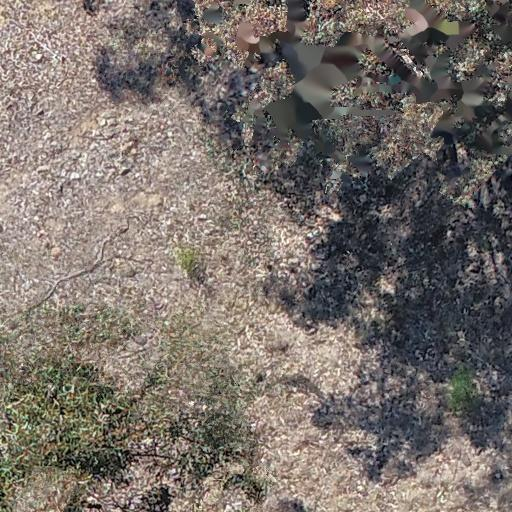stone: (120, 139, 143, 156), (120, 259, 137, 282), (96, 109, 120, 119), (116, 164, 130, 180), (44, 249, 66, 259), (70, 171, 82, 186), (39, 161, 51, 173), (198, 210, 209, 222), (34, 50, 44, 60)
